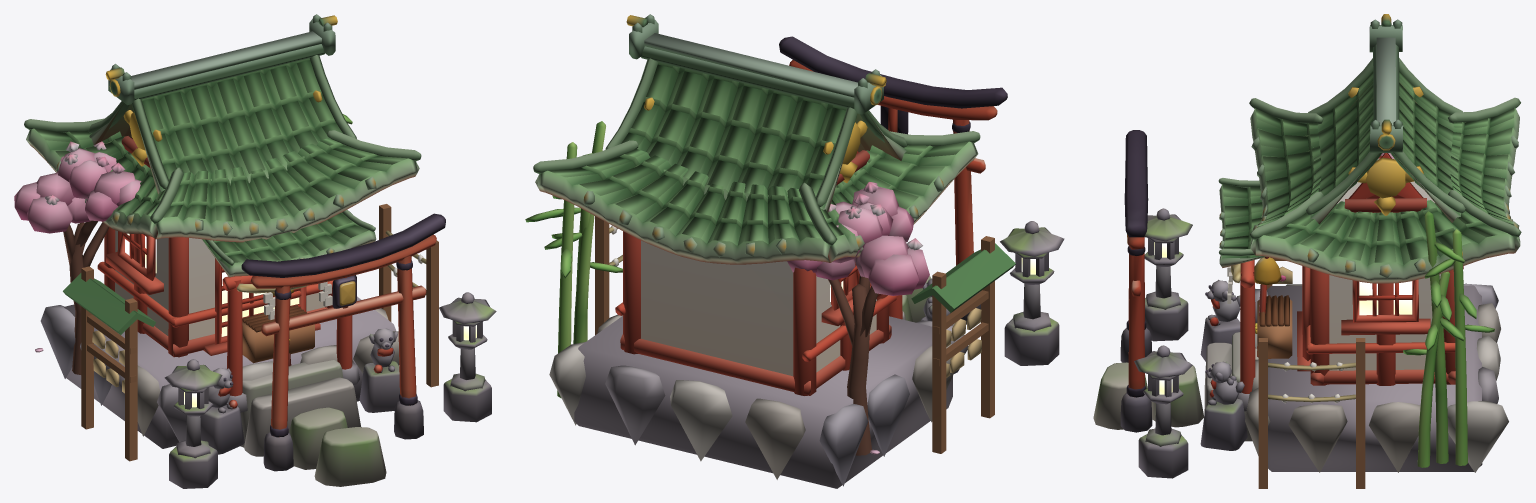
Rendered from villageShrine.glb.
3 renders of one model, left to right at view 1: azimuth 30°, elevation 25°; view 2: azimuth 150°, elevation 25°; view 3: azimuth 270°, elevation 25°, orthographic. The views are drawn at different scales.
Visible parts, largest first — view 1: villageShrine, villageShrine_dress, villageShrine_glow; view 2: villageShrine, villageShrine_dress; view 3: villageShrine, villageShrine_dress, villageShrine_glow.
Boxes of the visible parts, <box> form: villageShrine: <box>24,14,421,448</box>; villageShrine_dress: <box>14,114,496,488</box>; villageShrine_glow: <box>125,233,299,336</box>; villageShrine: <box>533,14,980,488</box>; villageShrine_dress: <box>525,36,1064,455</box>; villageShrine: <box>1218,14,1521,472</box>; villageShrine_dress: <box>1093,130,1494,488</box>; villageShrine_glow: <box>1359,281,1412,315</box>.
Size of the model in its own units: 2.97 by 2.82 by 3.17.
